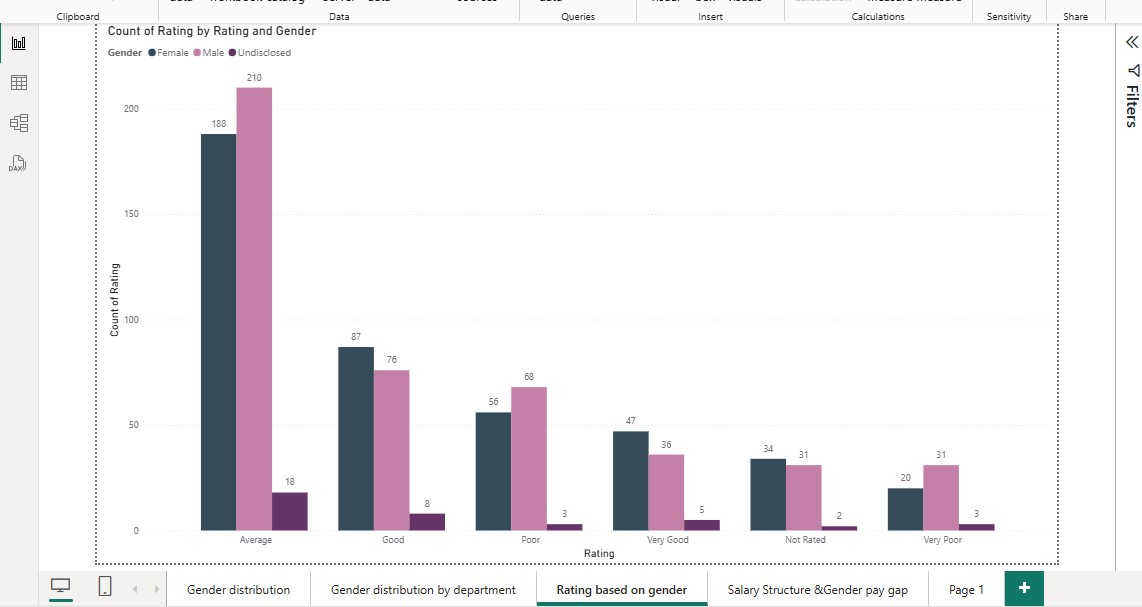

What the dashboard file says about the page in this screenshot:
{"tool":"powerbi","page":{"name":"Rating based on gender","canvas":[1280,720],"ordinal":2},"visuals":[{"type":"clusteredColumnChart","fields":{"Category":["moria Group emp-data.Rating"],"Series":["moria Group emp-data.Gender"],"Y":["CountNonNull(moria Group emp-data.Rating)"]},"box":[9.4,0,1269.9,720],"z":0}]}

Visuals, with their boxes on the page's 1280x720 design canvas (x1, y1, x2, y2). These are canvas units, not pixel positions in the 1142x607 screenshot, which may show the page scaled, cropped or inside an application window:
clusteredColumnChart - moria Group emp-data.Rating x moria Group emp-data.Gender: [9,0,1279,720]
